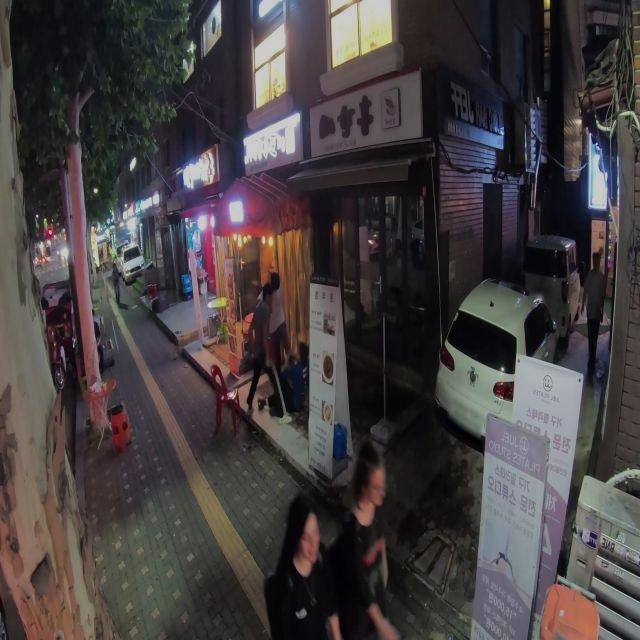fight: (243, 276, 310, 421)
non-fight: (324, 445, 397, 639)
